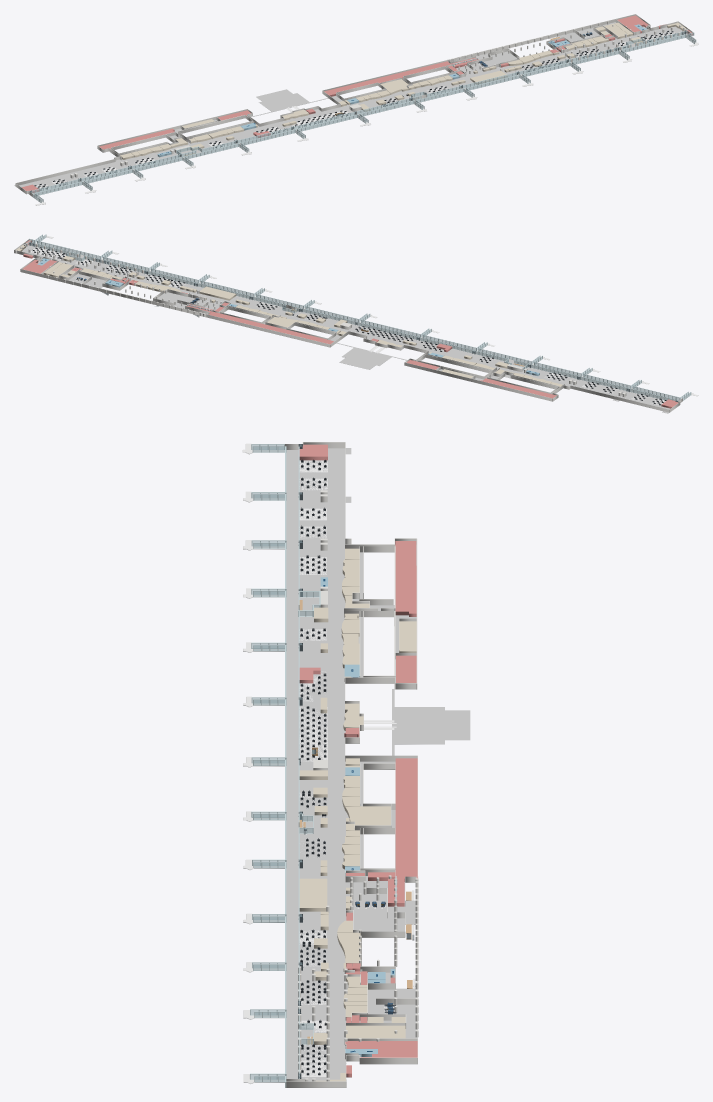
Rendered from t1-lantai-2.glb.
3 views of the same model, one above another, from view 1: azimuth 30°, elevation 25°; view 2: azimuth 150°, elevation 25°; view 3: azimuth 270°, elevation 25° (orthographic). The views are drawn at different scales.
Visible parts, largest first — view 1: XRAY, FLOOR_JUANDA_FF8, tembok_pillar_3, area_merah_15, tembok_pillar_7, area_merah_2, tembok_pillar_2; view 2: FLOOR_JUANDA_FF8, XRAY, tembok_pillar_3, area_merah_15, tembok_pillar_2, tembok_pillar, tembok_pillar_7, area_merah_2, pavlon, T1-FF-53; view 3: XRAY, FLOOR_JUANDA_FF8, area_merah_15, area_merah_2, area-duduk, T1-FF-53, area_merah_6.
Boxes of the visible parts, bbox=[...] form: XRAY: bbox=[20, 22, 698, 204]; FLOOR_JUANDA_FF8: bbox=[14, 22, 698, 205]; tembok_pillar_3: bbox=[322, 14, 635, 91]; area_merah_15: bbox=[324, 61, 451, 96]; tembok_pillar_7: bbox=[16, 159, 115, 185]; area_merah_2: bbox=[99, 128, 174, 149]; tembok_pillar_2: bbox=[98, 109, 247, 146]; FLOOR_JUANDA_FF8: bbox=[22, 237, 698, 413]; XRAY: bbox=[23, 237, 669, 412]; tembok_pillar_3: bbox=[20, 269, 329, 347]; area_merah_15: bbox=[208, 311, 333, 344]; tembok_pillar_2: bbox=[404, 362, 552, 401]; tembok_pillar: bbox=[90, 286, 206, 317]; tembok_pillar_7: bbox=[570, 385, 669, 412]; area_merah_2: bbox=[480, 378, 556, 398]; pavlon: bbox=[342, 351, 391, 369]; T1-FF-53: bbox=[199, 286, 236, 300]; XRAY: bbox=[242, 448, 417, 1087]; FLOOR_JUANDA_FF8: bbox=[242, 444, 470, 1083]; area_merah_15: bbox=[395, 758, 417, 881]; area_merah_2: bbox=[395, 541, 416, 616]; area-duduk: bbox=[299, 707, 327, 761]; T1-FF-53: bbox=[299, 878, 327, 911]; area_merah_6: bbox=[345, 1041, 417, 1057].
Bounding box in the file's own units: 650 × 5.9 × 97.18.
